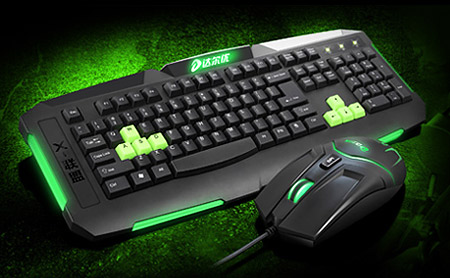keyboard: (17, 29, 427, 236)
mouse: (256, 135, 408, 252)
